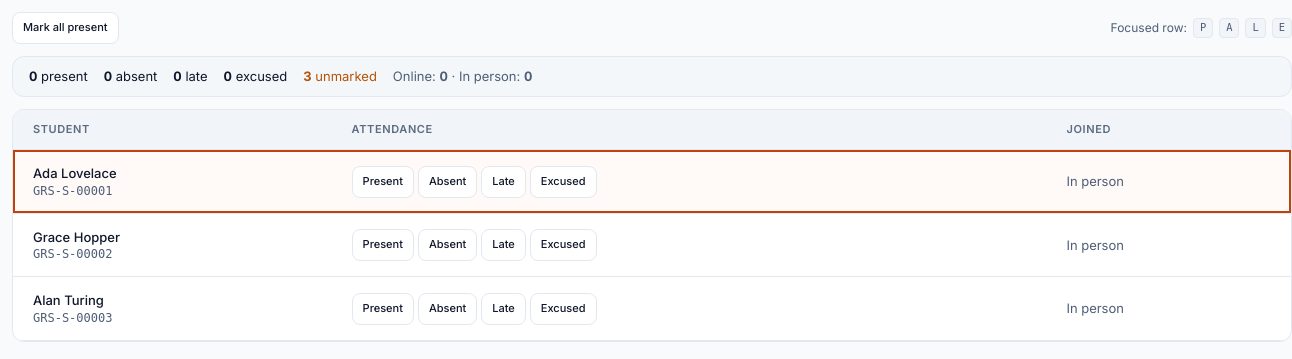
it: RegisterEditor › "Mark all present" marks every row, and a correction fixes just the one exception
Click the button "Mark all present". click: (65, 28)
box: [12,12,119,44]
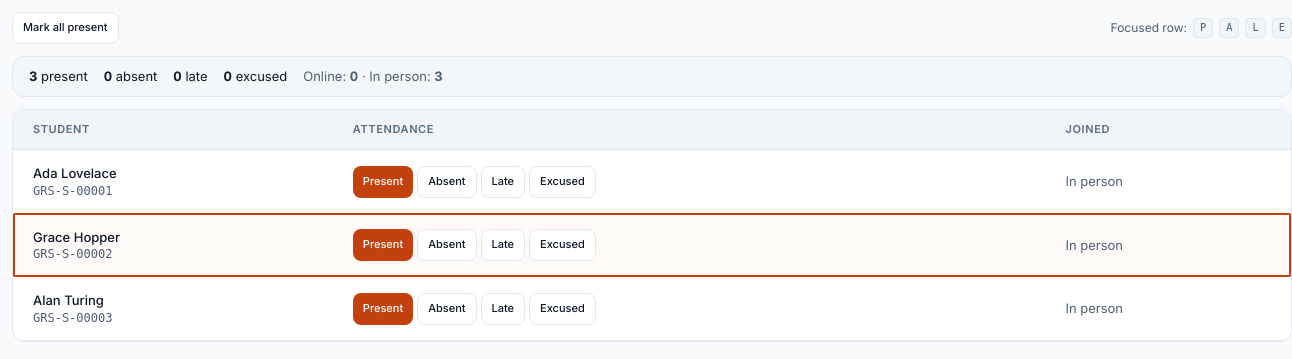
Expected: the row named "Ada Lovelace, Present" is shown, [13,150,1291,213]
Expected: the row named "Grace Hopper, Present" is shown, [13,213,1291,277]
Expected: the row named "Alan Turing, Present" is shown, [13,277,1291,340]
Type keys "a"
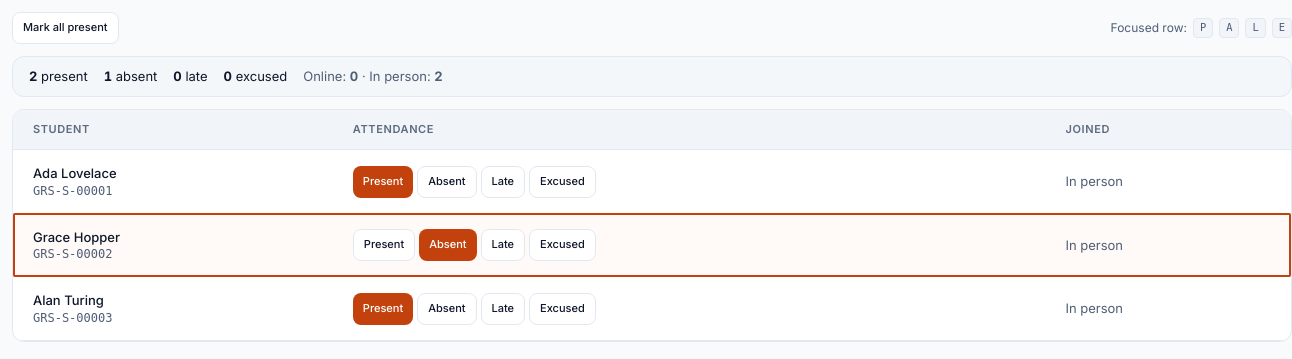
Expected: the row named "Ada Lovelace, Present" is shown, [13,150,1291,213]
Expected: the row named "Alan Turing, Present" is shown, [13,277,1291,340]
Expected: the row named "Grace Hopper, Absent" is shown, [13,213,1291,277]
